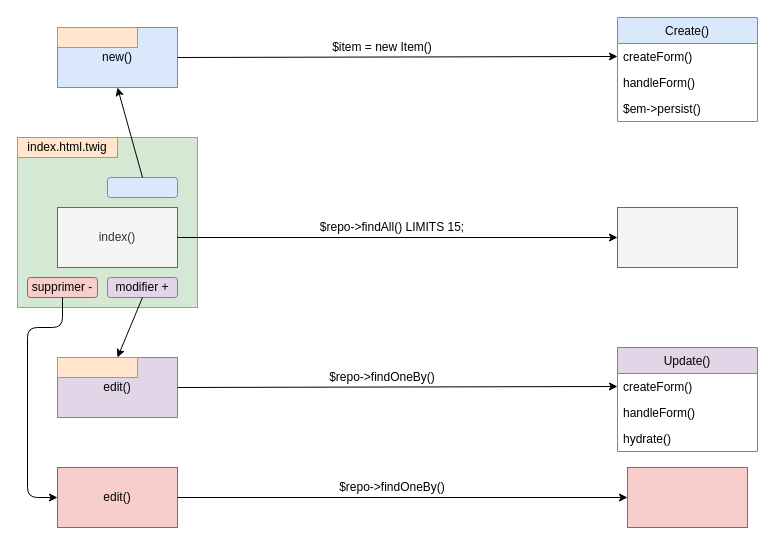
The diagram is 775 pixels wide and 545 high, and some of its shapes have lost their labels. The centre of each missing label's shape, as x and y in pixels:
add.html.twig: the point at 97,37
ajouter +: the point at 142,187
Delete(): the point at 687,497
edit.html.twig: the point at 97,367
Read(): the point at 677,237
